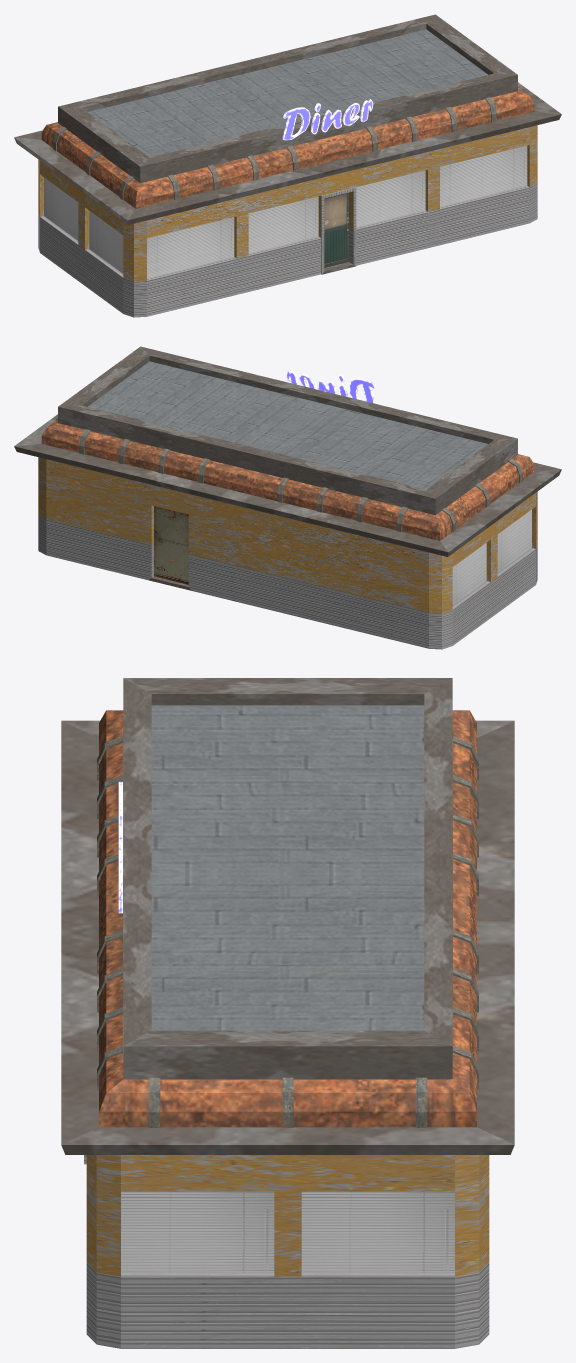
The model's file is dinnerPs1.fbx.
The picture shows the model from 3 angles, top to bottom: view 1: azimuth 30°, elevation 25°; view 2: azimuth 150°, elevation 25°; view 3: azimuth 270°, elevation 25°; orthographic projection. The views are drawn at different scales.
Visible parts, largest first — view 1: diner-Roof, diner-Building, diner-Window-doors, diner-Sign; view 2: diner-Roof, diner-Building, diner-Window-doors, diner-Sign; view 3: diner-Roof, diner-Building, diner-Window-doors.
Boxes of the visible parts, x1,y1,x2,y2 form: diner-Roof: [14, 14, 561, 224]; diner-Building: [38, 125, 537, 317]; diner-Window-doors: [44, 145, 527, 278]; diner-Sign: [282, 99, 373, 140]; diner-Roof: [14, 346, 561, 556]; diner-Building: [38, 457, 537, 649]; diner-Window-doors: [154, 506, 531, 605]; diner-Sign: [286, 370, 376, 403]; diner-Roof: [61, 678, 514, 1154]; diner-Building: [84, 1155, 489, 1348]; diner-Window-doors: [121, 1191, 454, 1272].
Bounding box in the file's own units: 1261 × 453 × 570.
